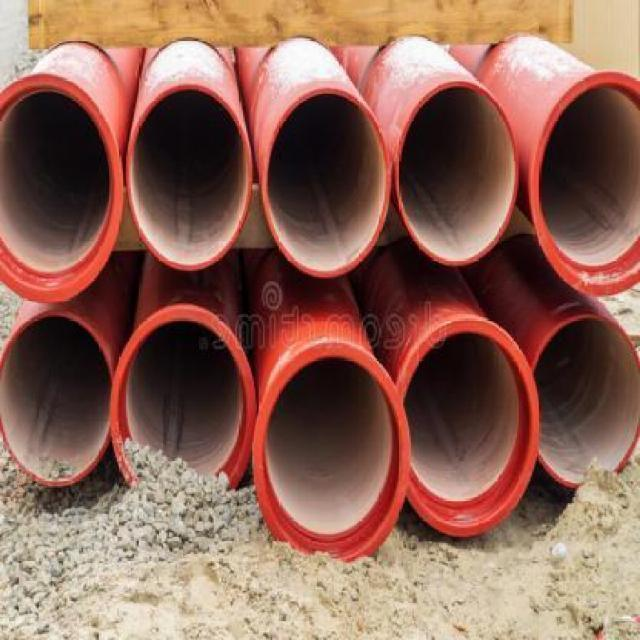pipe: (253, 342, 411, 561), (397, 317, 540, 537), (0, 72, 123, 303), (110, 305, 256, 493), (531, 71, 640, 297), (263, 88, 391, 279), (126, 83, 251, 271), (394, 80, 520, 266), (0, 310, 113, 486), (532, 314, 640, 488)
